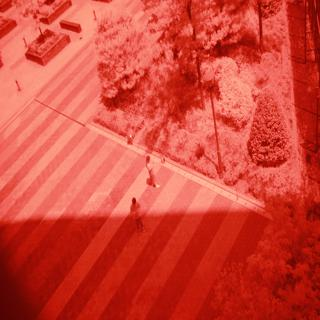person: (126, 194, 148, 241), (139, 151, 164, 192)
